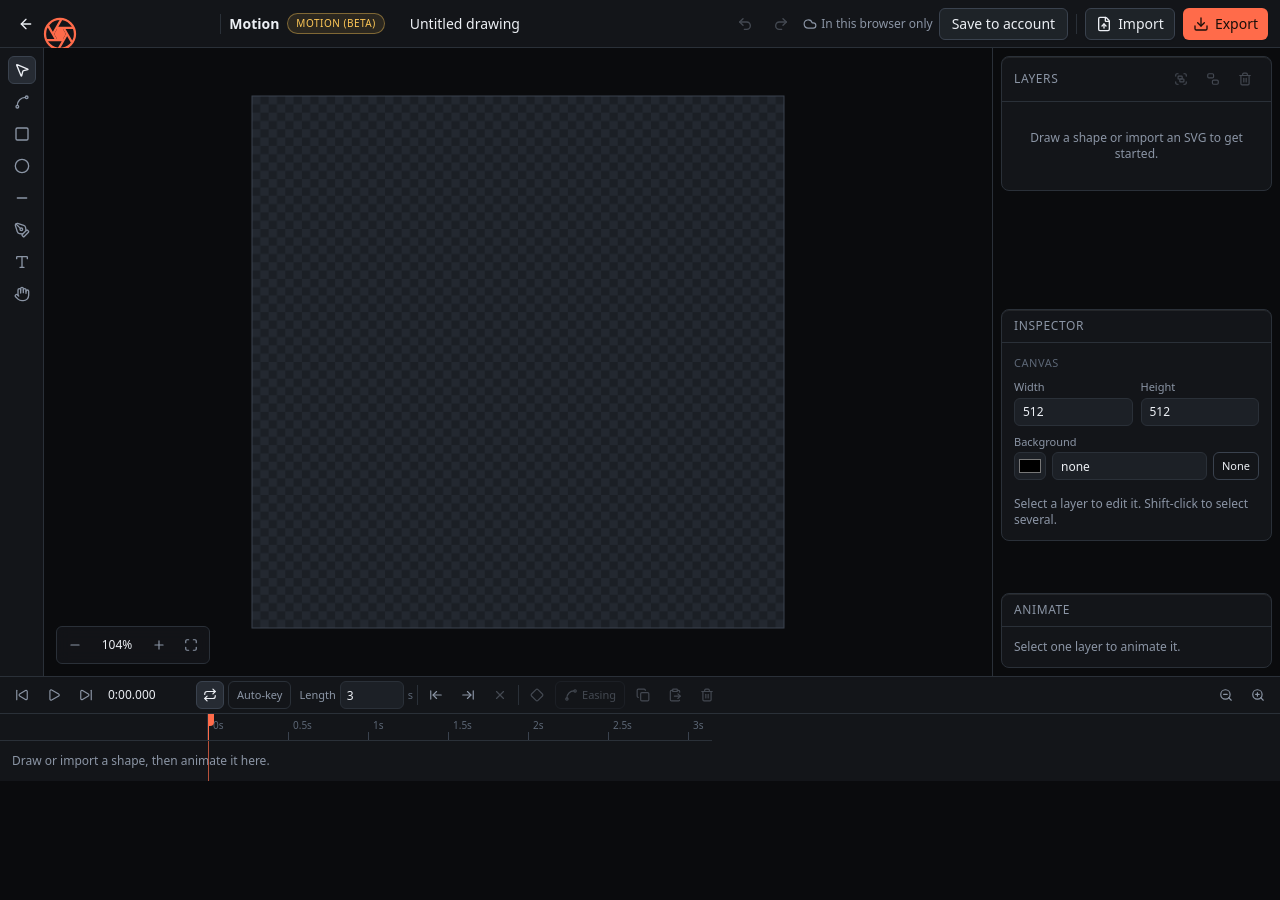
Test case: Motion editor: account save + 409 flow › signed out: Save prompts sign-in, offers .json and sends nothing
Click the button "Save to account" at (1003, 24), box [939,8,1068,40]
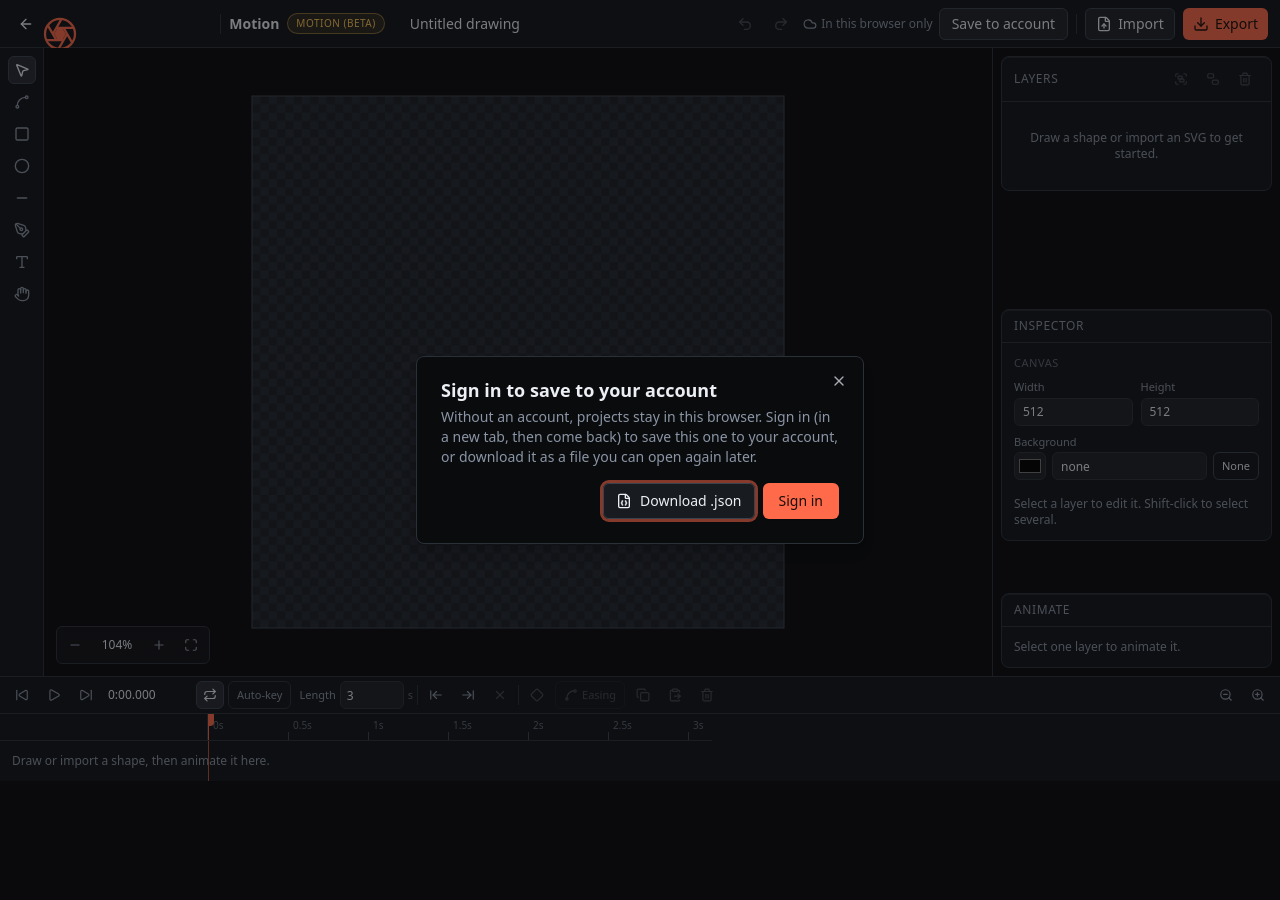
Expected: the button "Download .json" is shown, [603,483,755,519]
